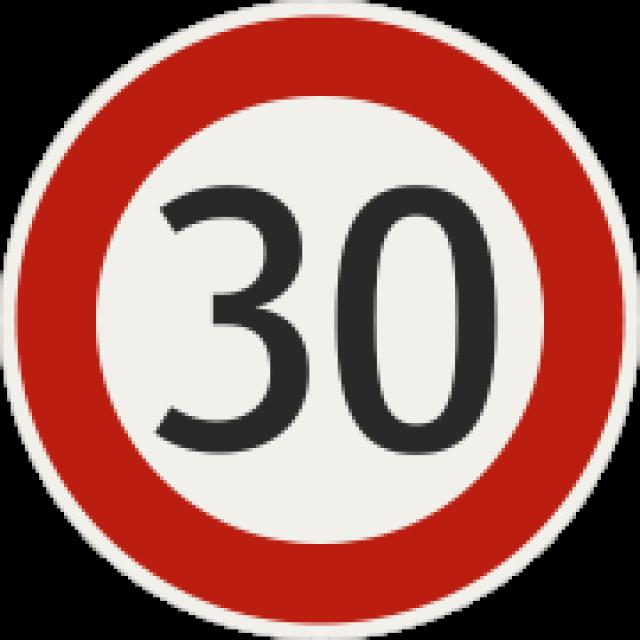Speed Limit -30-: (144, 176, 509, 460)
